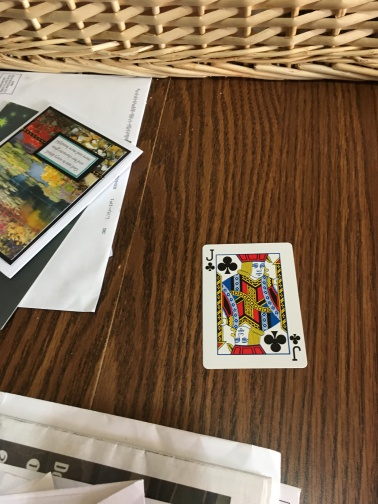jack: (201, 241, 310, 371)
